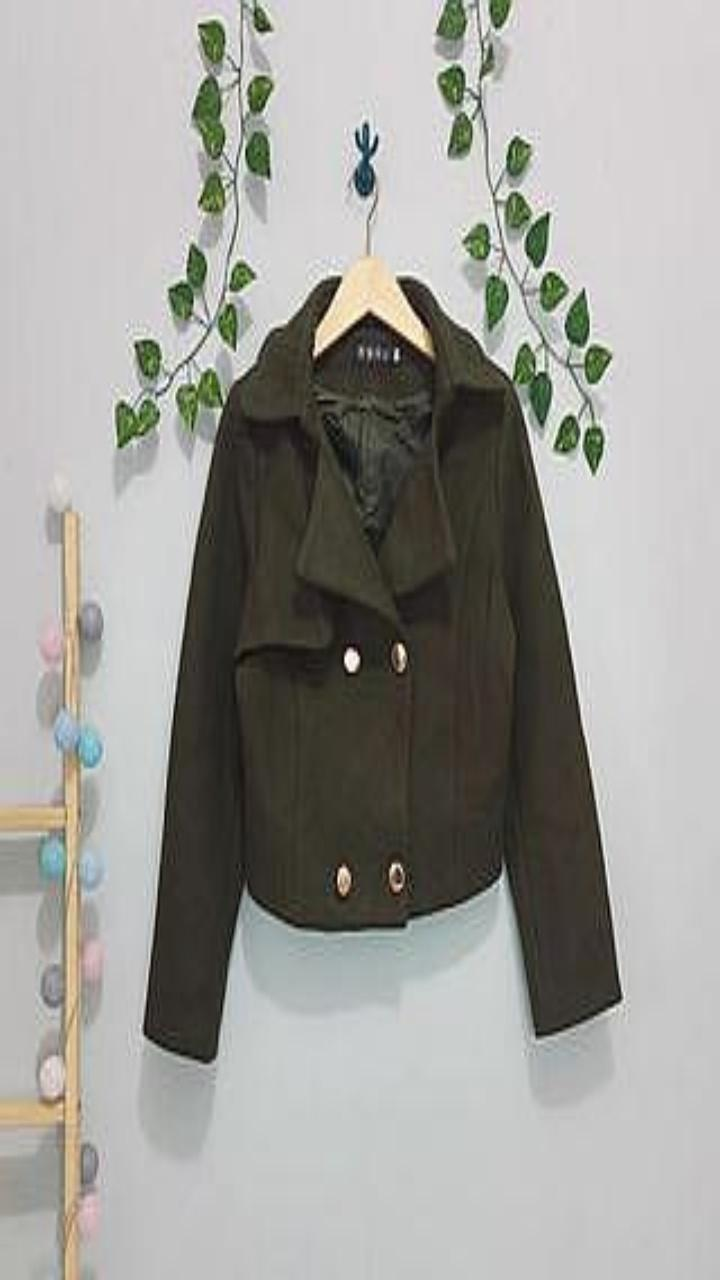Coat: (143, 275, 621, 1061)
